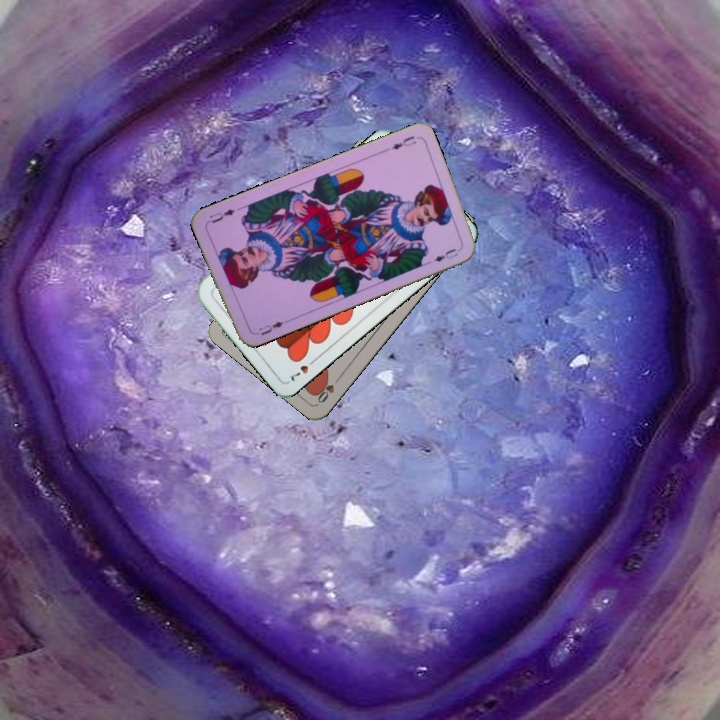EU: (250, 317, 289, 338), (388, 132, 419, 152)
H7: (284, 354, 319, 385)
HO: (313, 372, 344, 406)
